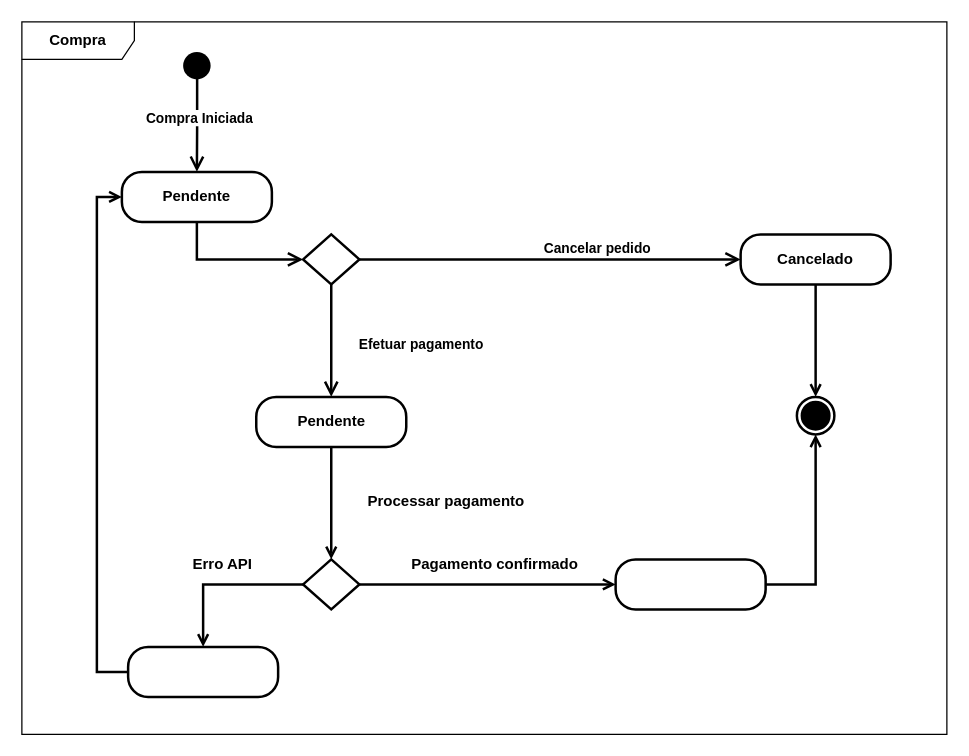
Some shapes in this 969 by 756 pixel diagram are drawn without their labels. The shapes that lost their labels are listed below. From the top down, each one's box as (x1, y1, x2, y2) in pixels, then its label:
(614, 558, 766, 610): Concluído
(126, 645, 279, 698): Não concluído
